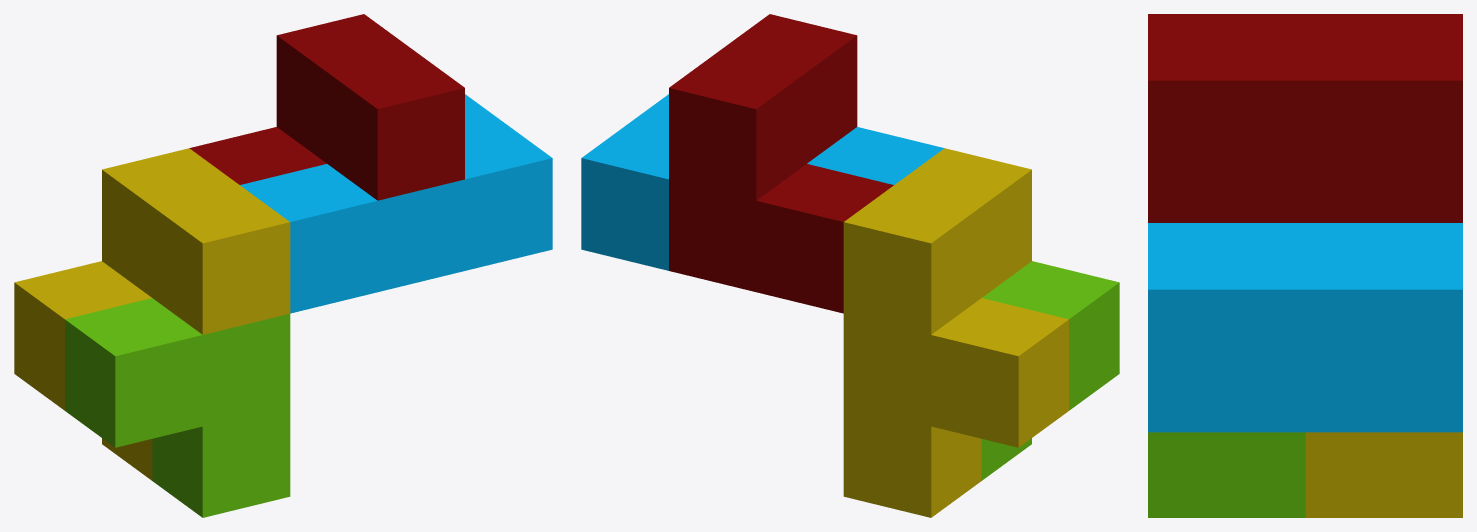
The picture shows the model from 3 angles, left to right: view 1: azimuth 30°, elevation 25°; view 2: azimuth 150°, elevation 25°; view 3: azimuth 270°, elevation 25°; orthographic projection. The views are drawn at different scales.
Parts seen in each view (by area): view 1: mergedBlocks(Clone); view 2: mergedBlocks(Clone); view 3: mergedBlocks(Clone).
Part boxes in pixels (x1,y1,x2,y2): mergedBlocks(Clone): [14, 14, 552, 517]; mergedBlocks(Clone): [581, 14, 1119, 517]; mergedBlocks(Clone): [1148, 14, 1462, 517].
Bounding box in the file's own units: 5 × 4 × 2.
Materials: 4 (4 with a texture image).
